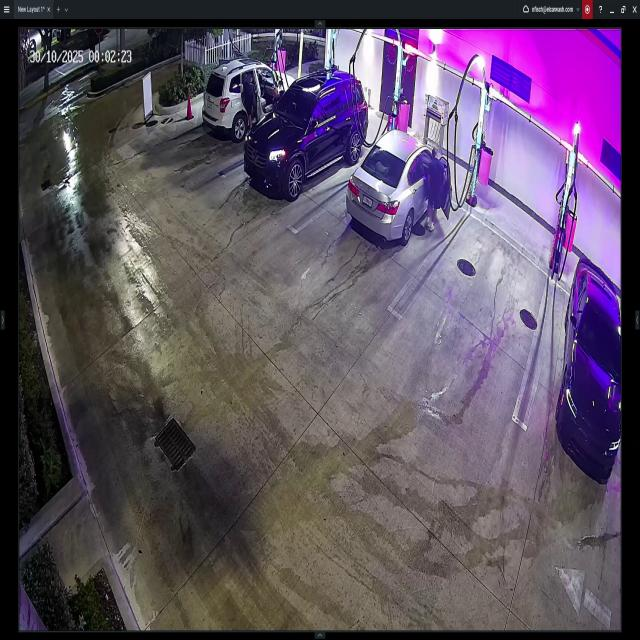Car: (247, 68, 366, 202), (554, 255, 621, 482), (347, 130, 452, 246), (202, 53, 286, 140)
